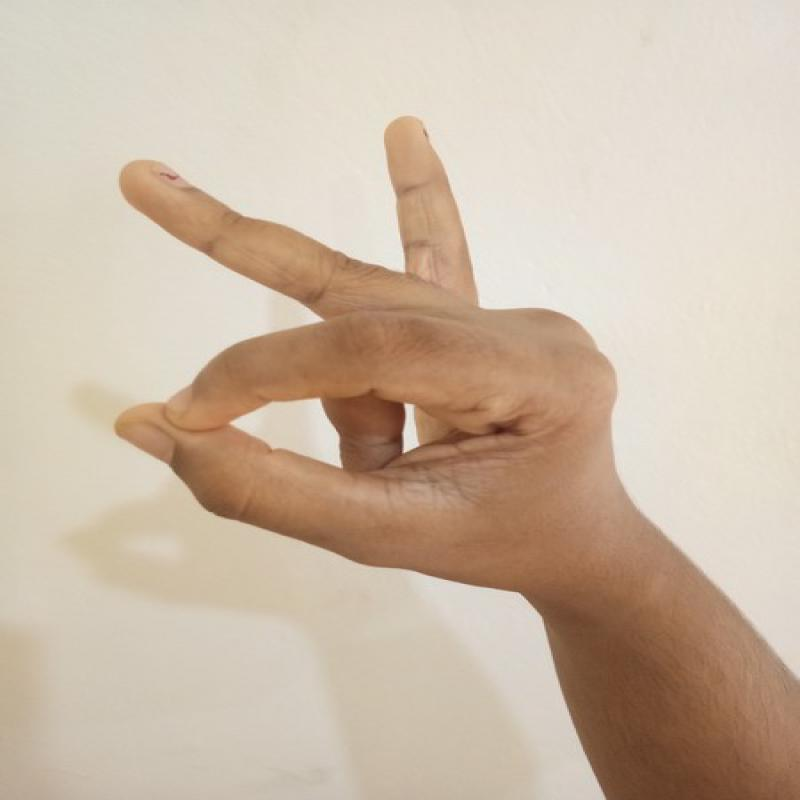Katakam: (95, 98, 627, 594)
